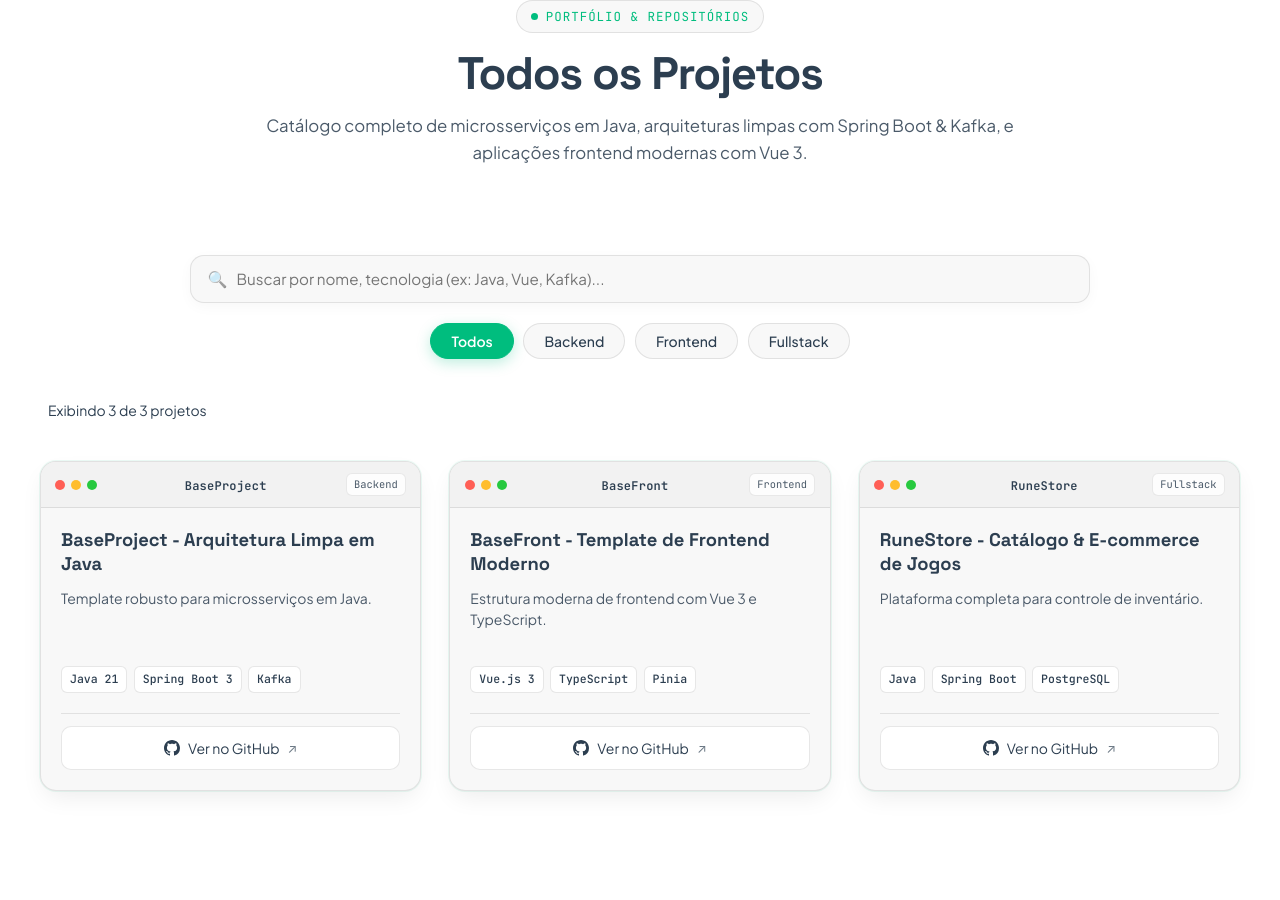
Test: ProjectsView.vue › 5. Deve exibir estado vazio quando nenhum projeto corresponder aos filtros
Type "termo-completamente-inexistente-xyz" into the search field with class "search-input" at (640, 279), box [190,254,1090,303]
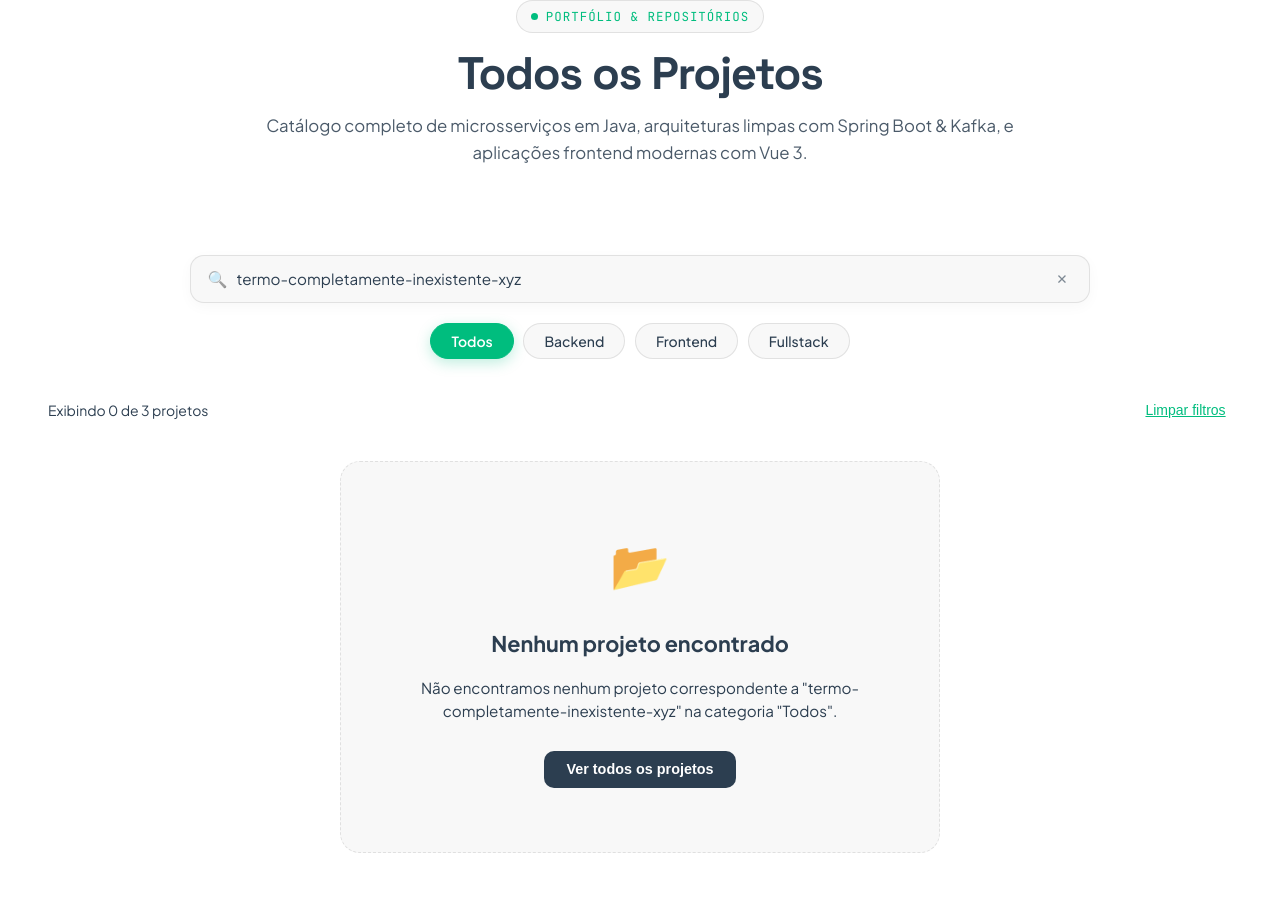
Result: the element with class "empty-state" is shown at [340,461,940,853]
Result: the heading with class "empty-title" reads "Nenhum projeto encontrado" at [491,630,789,657]
